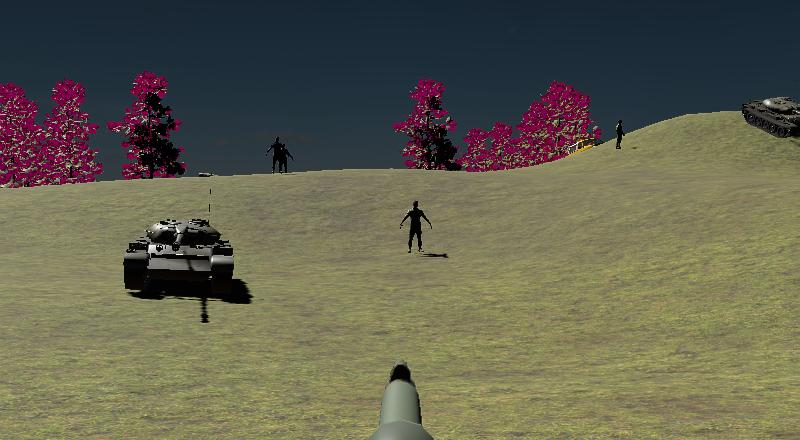Human: (612, 117, 629, 153)
Tank: (121, 211, 237, 301), (740, 91, 800, 142)
car: (565, 133, 606, 157)
